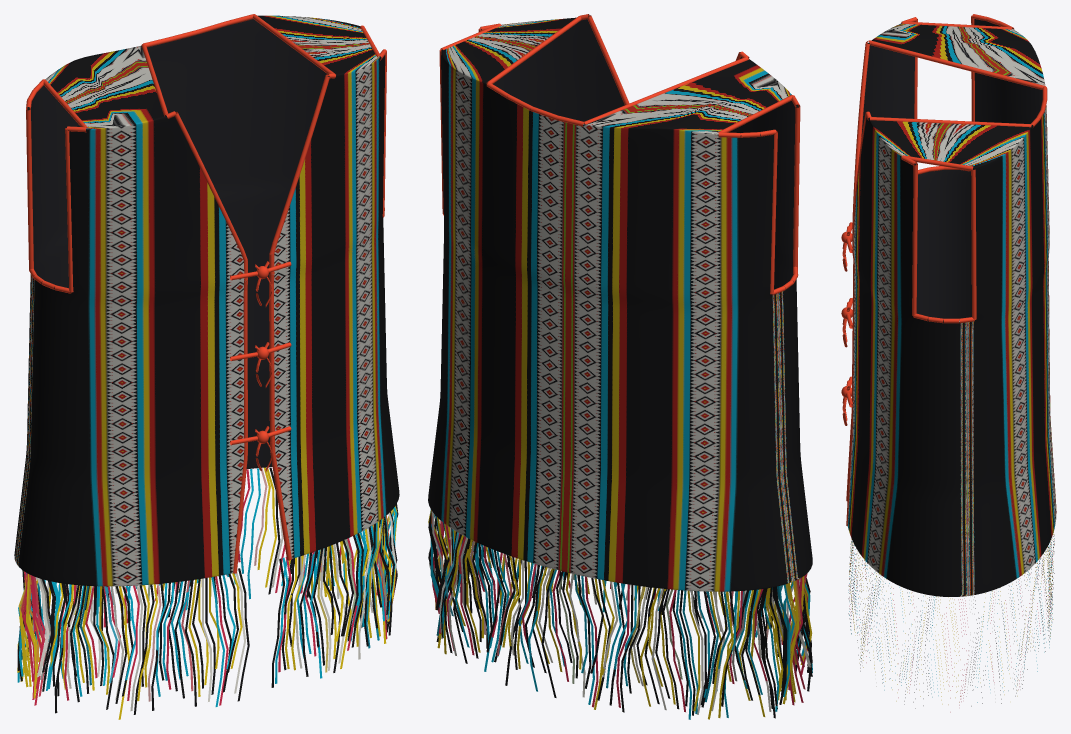
The model's file is Nam_Mnong.fbx.
3 renders of one model, left to right at view 1: azimuth 30°, elevation 25°; view 2: azimuth 150°, elevation 25°; view 3: azimuth 270°, elevation 25°, orthographic. The views are drawn at different scales.
Parts seen in each view (by area): view 1: MNONG_VEST_BODY, MNONG_HEM_FRINGES, MNONG_VEST_PIPING, MNONG_FROG_CLOSURES; view 2: MNONG_VEST_BODY, MNONG_HEM_FRINGES, MNONG_VEST_PIPING; view 3: MNONG_VEST_BODY, MNONG_VEST_PIPING, MNONG_HEM_FRINGES, MNONG_FROG_CLOSURES.
Boxes of the visible parts, left/top/right/bottom form: MNONG_VEST_BODY: left=14, top=15, right=399, bottom=586; MNONG_HEM_FRINGES: left=17, top=467, right=398, bottom=719; MNONG_VEST_PIPING: left=26, top=14, right=386, bottom=573; MNONG_FROG_CLOSURES: left=230, top=261, right=291, bottom=471; MNONG_VEST_BODY: left=428, top=16, right=812, bottom=591; MNONG_HEM_FRINGES: left=428, top=509, right=812, bottom=719; MNONG_VEST_PIPING: left=439, top=14, right=800, bottom=295; MNONG_VEST_BODY: left=847, top=19, right=1056, bottom=596; MNONG_VEST_PIPING: left=846, top=14, right=1047, bottom=526; MNONG_HEM_FRINGES: left=848, top=532, right=1054, bottom=712; MNONG_FROG_CLOSURES: left=841, top=222, right=853, bottom=425.
Size of the model in its own units: 59.68 by 92.77 by 32.2.
4 materials, 2 textured.
